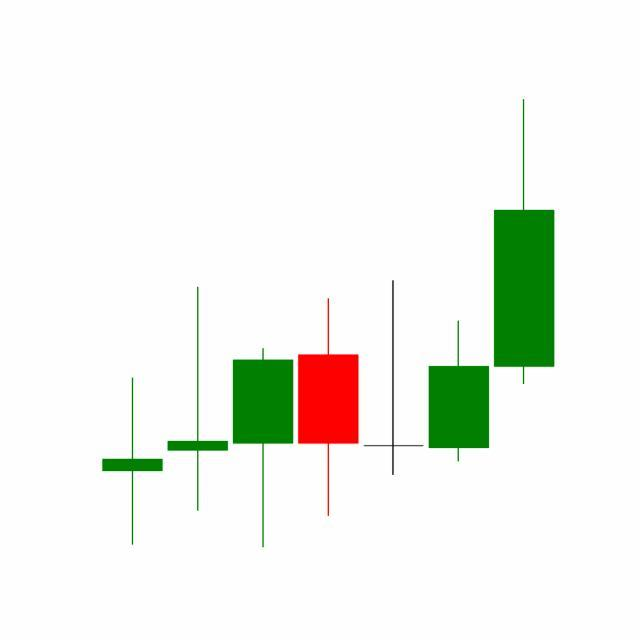Morning Doji Star: (295, 277, 492, 519)
